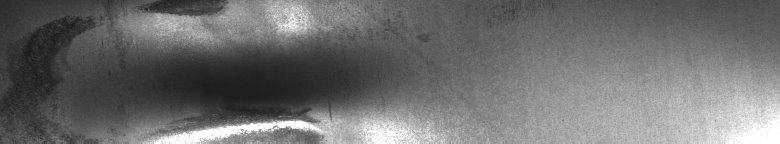ke: (89, 5, 320, 136)
